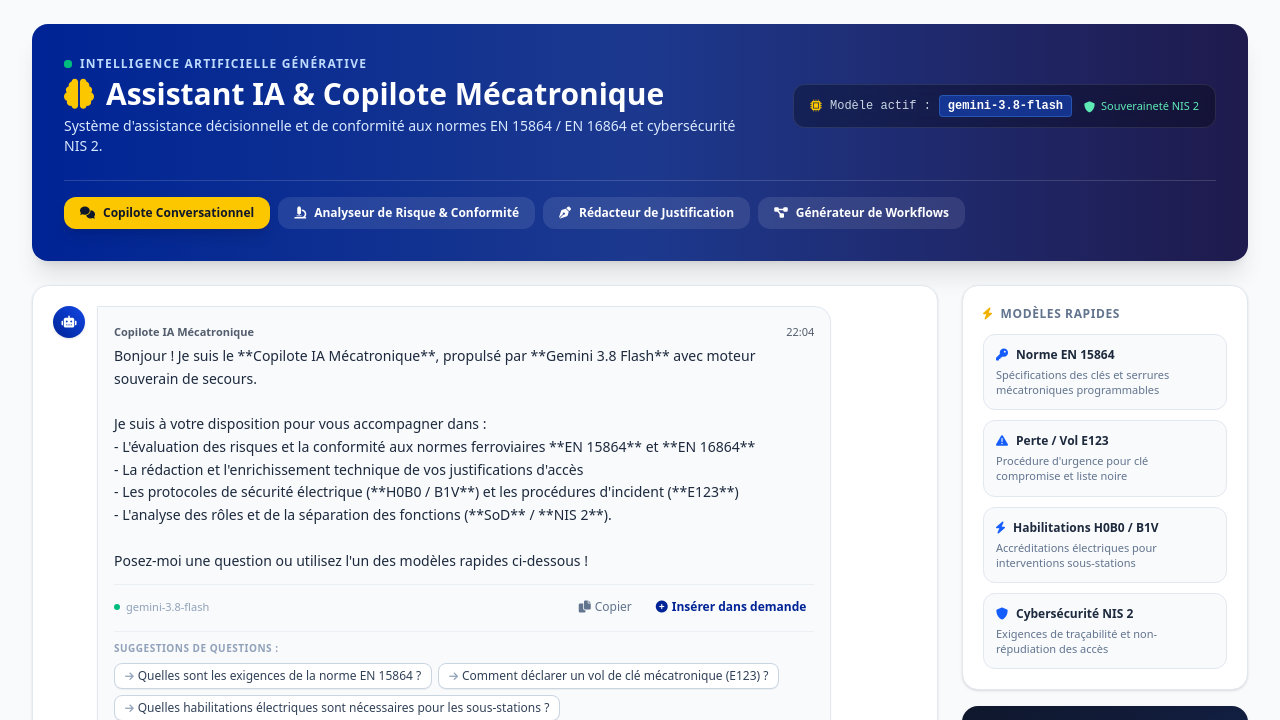
Test: AssistantIA Page Component › switches to the justification drafter and generates text
The width and height of the screenshot is (1280, 720).
What coordinates should you click on to do the following:
click the button "Rédacteur de Justification"
I would click on:
 (647, 213)
Its box is 543,197 -> 750,229.
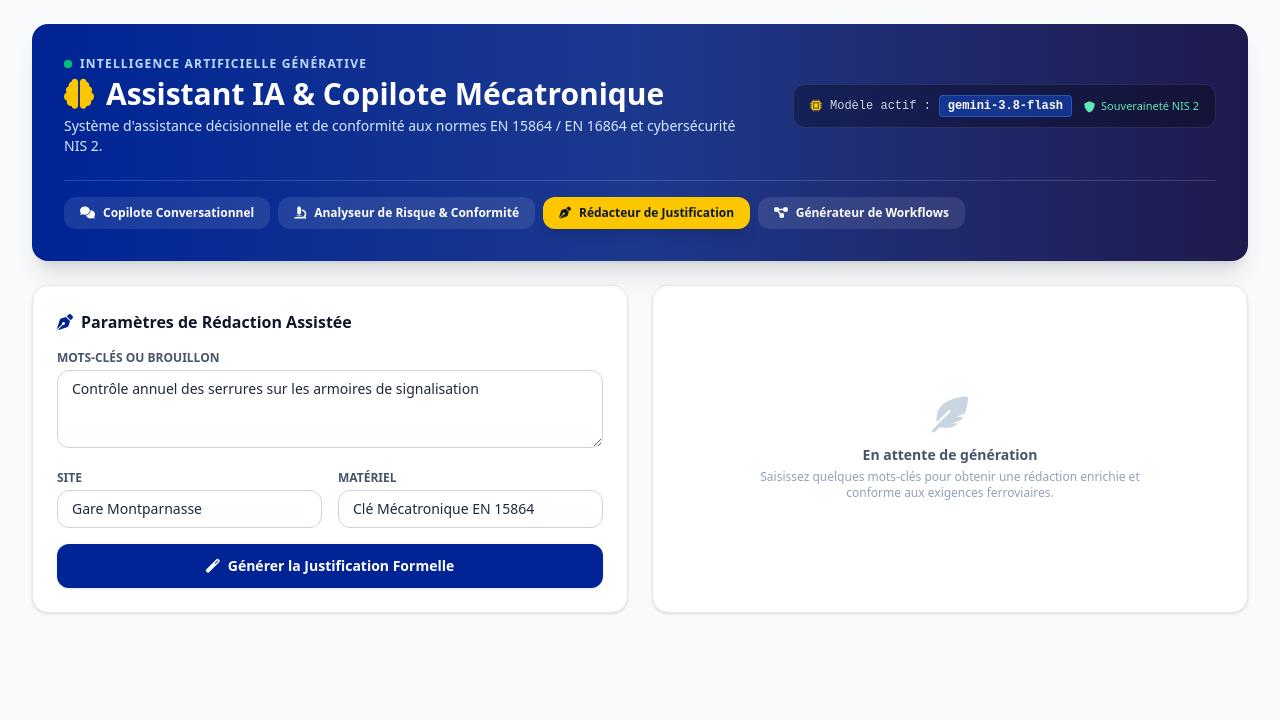
Expected: the text "Paramètres de Rédaction Assistée" is shown, 81,310 -> 352,334
What coordinates should you click on to do the following:
click the button "Générer la Justification Formelle"
I would click on:
 (330, 566)
Its box is 57,544 -> 603,588.
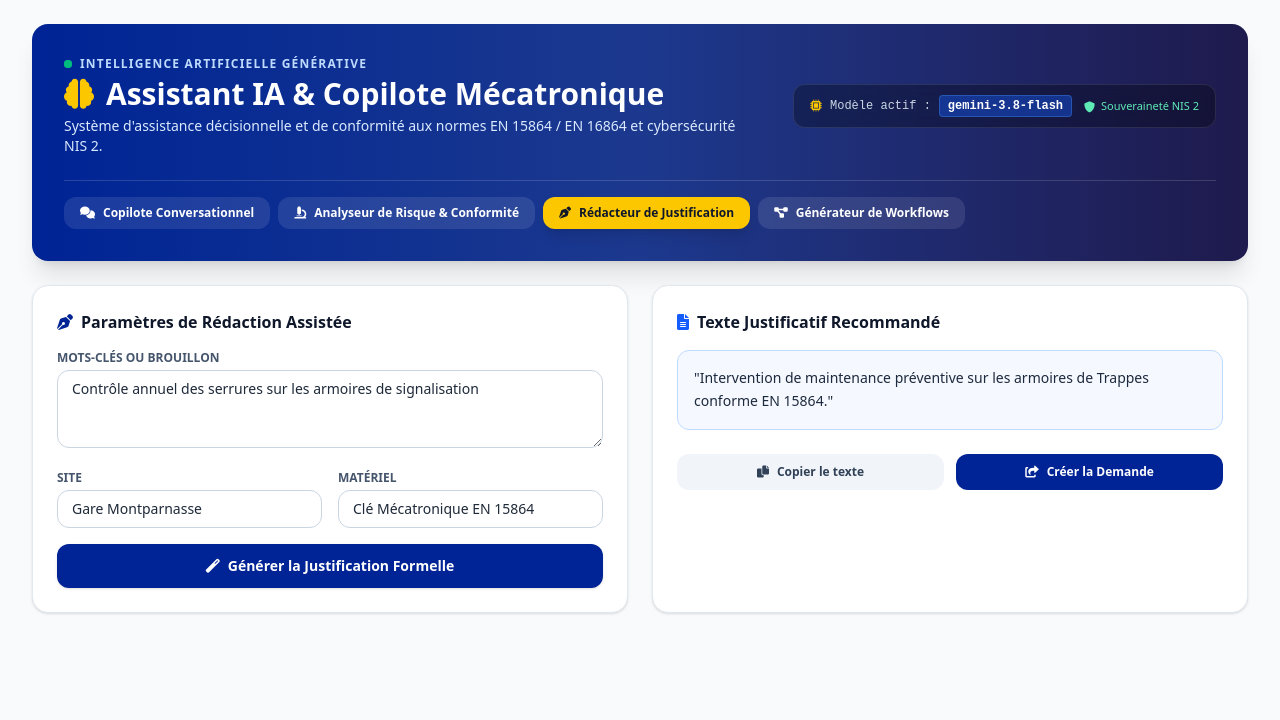
Expected: the text "Texte Justificatif Recommandé" is shown, 697,310 -> 940,334
Expected: the text "Intervention de maintenance préventive sur les armoires de Trappes conforme EN 15864" is shown, 694,368 -> 1149,410
Expected: the text "Créer la Demande" is shown, 1047,464 -> 1154,480
